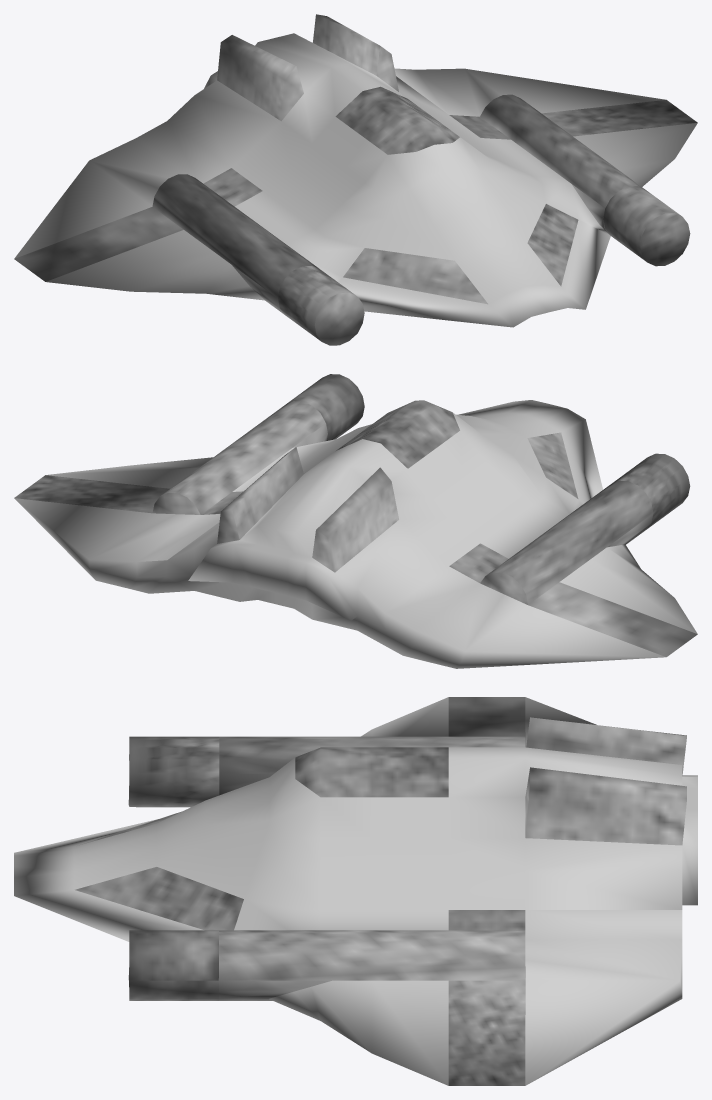
Rendered from NewEnemyShipOld.obj.
3 renders of one model, top to bottom at view 1: azimuth 30°, elevation 25°; view 2: azimuth 150°, elevation 25°; view 3: azimuth 270°, elevation 25°, orthographic. The views are drawn at different scales.
Visible parts, largest first — view 1: Cube; view 2: Cube; view 3: Cube.
Boxes of the visible parts, x1,y1,x2,y2 form: Cube: (14,14,697,345); Cube: (14,374,697,668); Cube: (14,697,697,1085).
Bounding box in the file's own units: 18 × 3.42 × 13.38.
